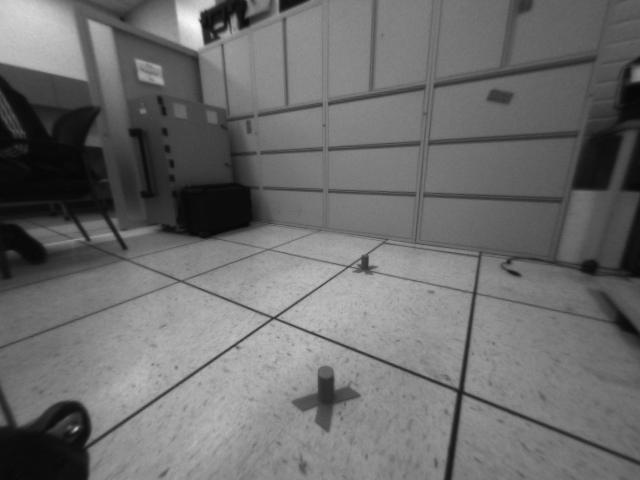X: (292, 365, 362, 432), (352, 253, 380, 275)
